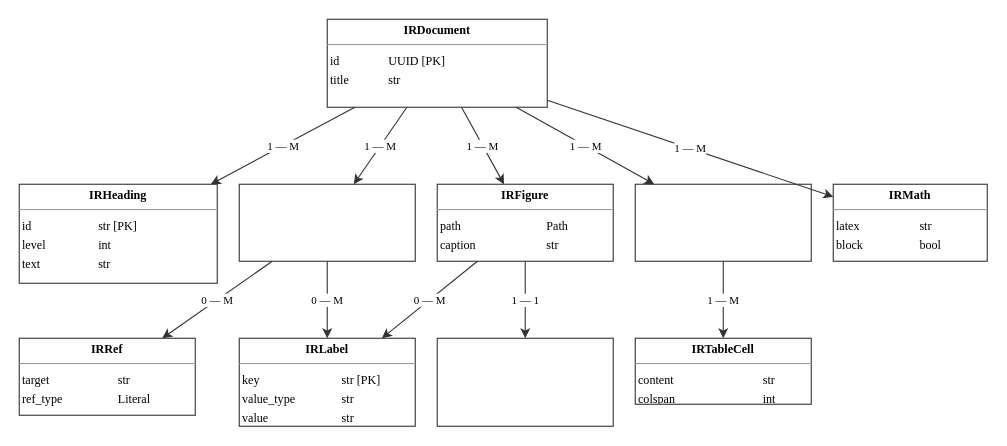
This 1007x446 diagram has some shape labels left out. Each missing label, with the centre of its shape:
IRImage path Path width float height float: pixel 524 381
IRParagraph text str style str: pixel 326 222
IRTable grid list[list] headers bool: pixel 722 222
